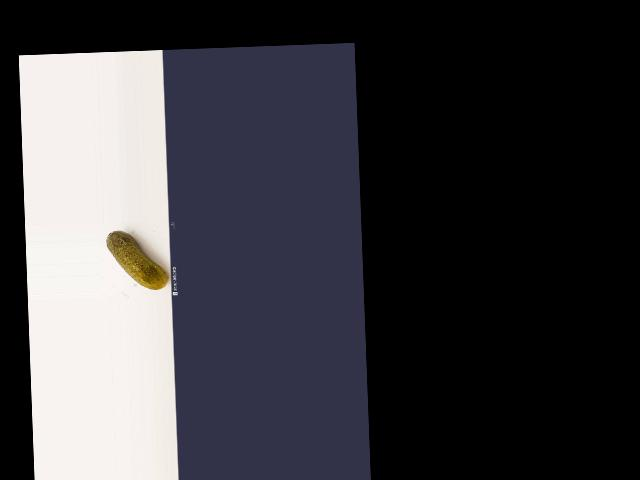cucumber: (106, 228, 168, 291)
